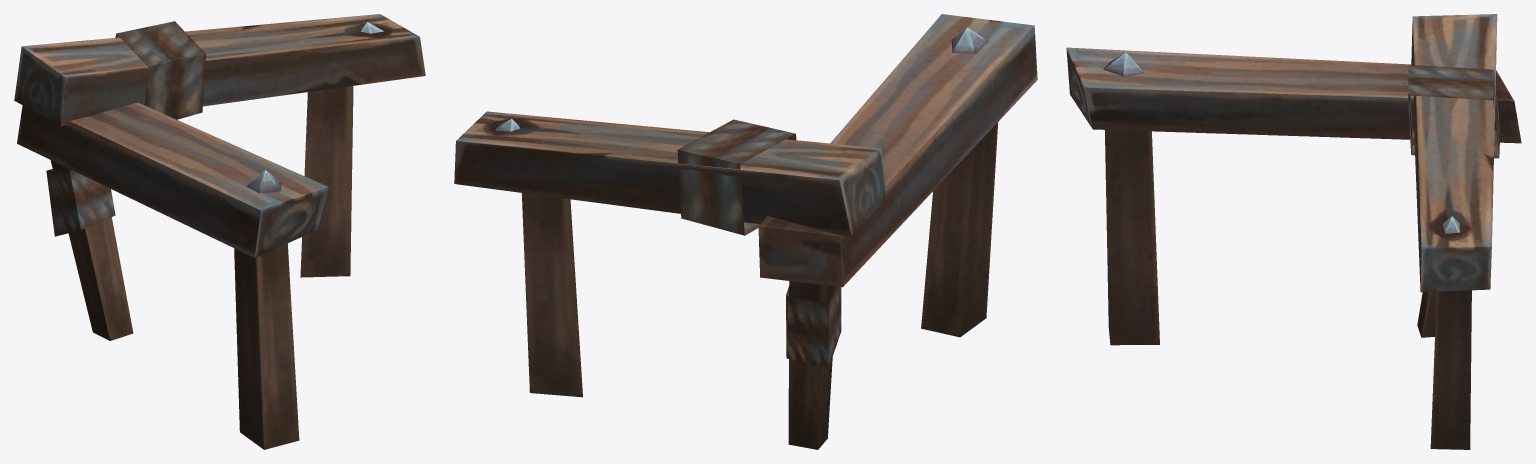
File: mine_railing09.fbx
3 views of the same model, side by side, from view 1: azimuth 30°, elevation 25°; view 2: azimuth 150°, elevation 25°; view 3: azimuth 270°, elevation 25° (orthographic). The views are drawn at different scales.
Visible parts, largest first — view 1: obj0.170; view 2: obj0.170; view 3: obj0.170.
Boxes of the visible parts, left/top/right/bottom form: obj0.170: left=14, top=14, right=425, bottom=449; obj0.170: left=454, top=14, right=1037, bottom=449; obj0.170: left=1066, top=14, right=1521, bottom=449.
Size of the model in its own units: 2.43 by 1.72 by 2.48.
